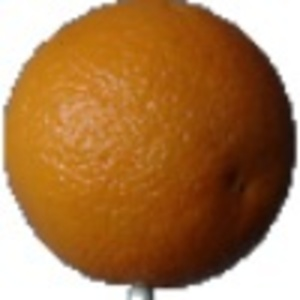laranja: (4, 3, 297, 298)
